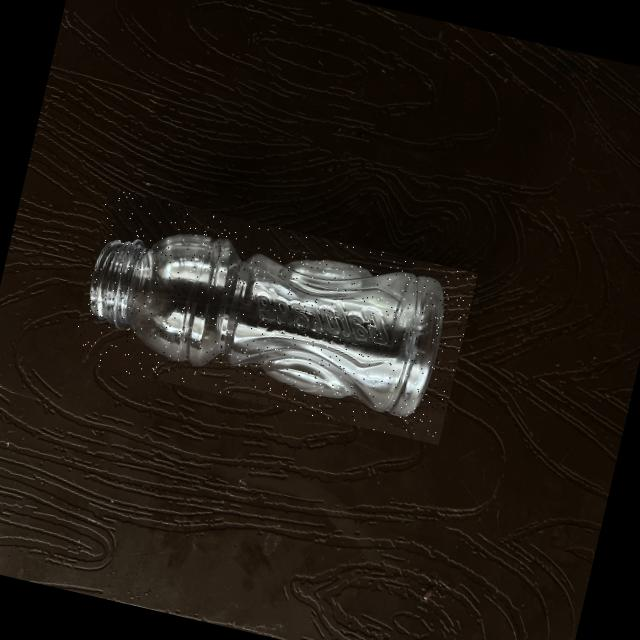PET_ClearBottle: (69, 187, 478, 444)
